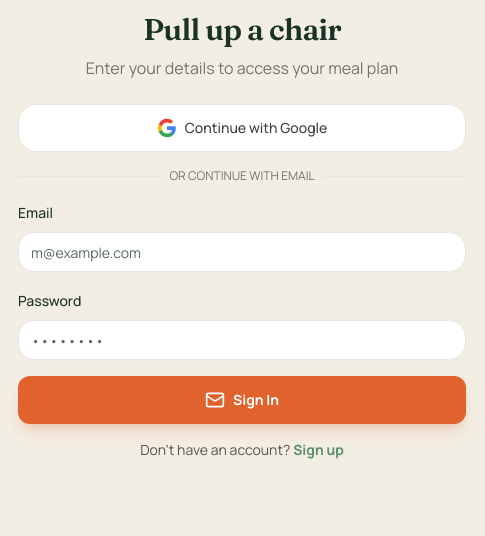
Test: AuthForm › shows error when fields are empty
The width and height of the screenshot is (485, 536).
Step 1. Click the button "Sign In" → (242, 400), box x1=18 y1=376 x2=466 y2=424
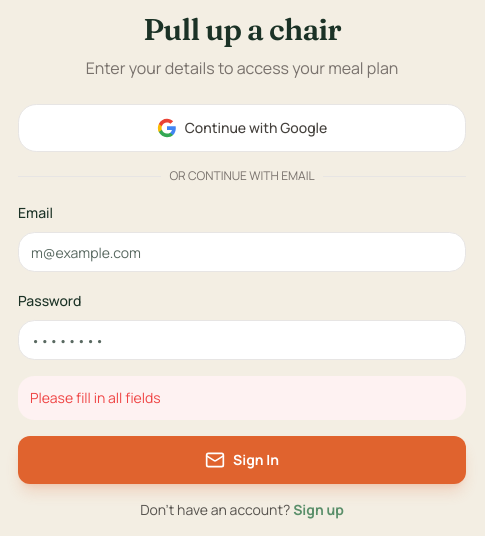
expect the text "Please fill in all fields" is shown: met, box x1=18 y1=376 x2=466 y2=420
